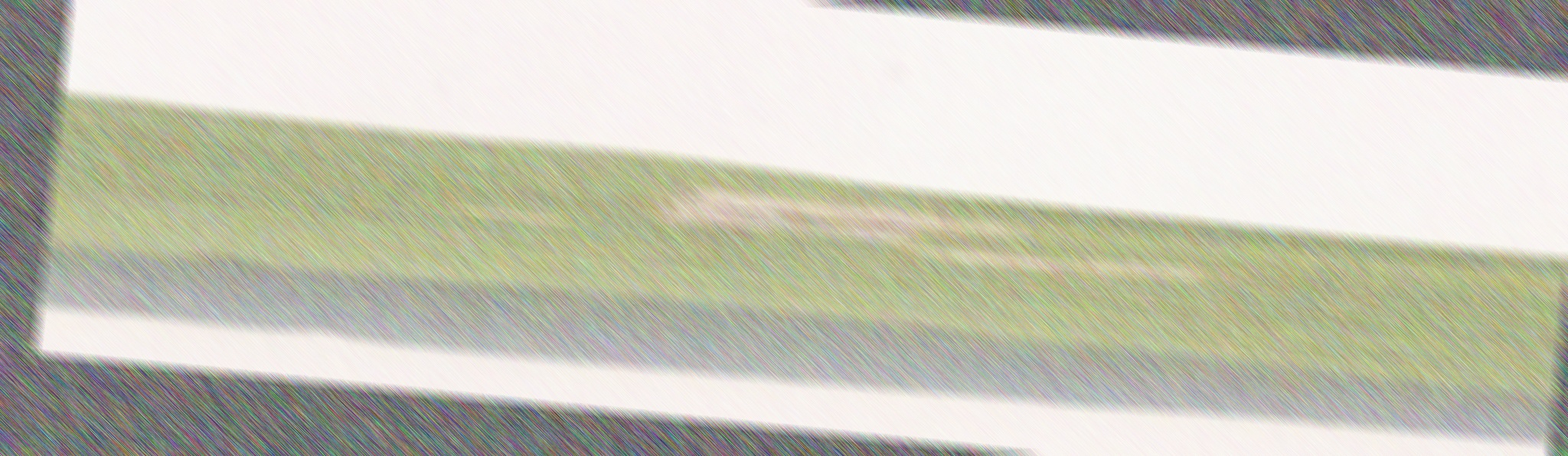Leaf_Blast: (432, 199, 1366, 292)
